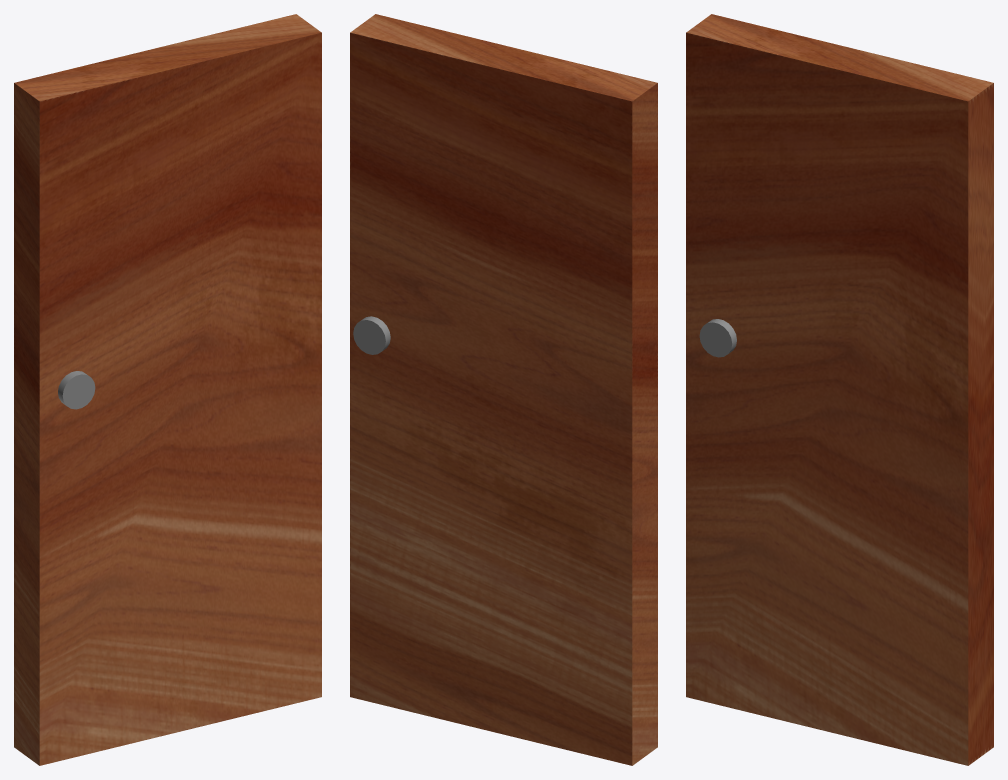
The model's file is Door.fbx.
3 views of the same model, side by side, from view 1: azimuth 30°, elevation 25°; view 2: azimuth 150°, elevation 25°; view 3: azimuth 330°, elevation 25° (orthographic).
Parts seen in each view (by area): view 1: Box001, Cylinder002; view 2: Box001, Cylinder001; view 3: Box001, Cylinder002.
Boxes of the visible parts, box(x1,y1,x2,y2) form: Box001: box(14, 14, 321, 765); Cylinder002: box(58, 371, 95, 409); Box001: box(350, 14, 657, 765); Cylinder001: box(353, 316, 390, 354); Box001: box(686, 14, 993, 765); Cylinder002: box(699, 319, 736, 357).
Size of the model in its own units: 32 by 72 by 6.91.
